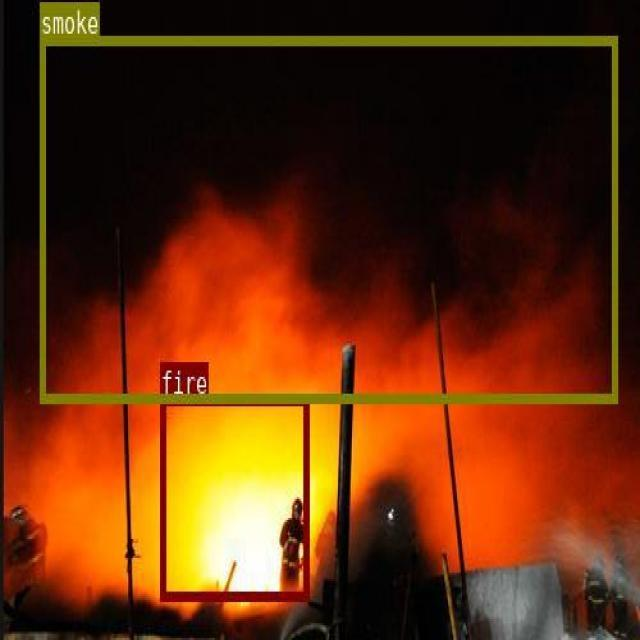fire: (160, 395, 308, 599)
smoke: (39, 34, 617, 400)
